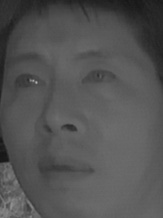eye: (79, 65, 118, 88), (10, 70, 49, 91)
mouth: (35, 149, 96, 188)
